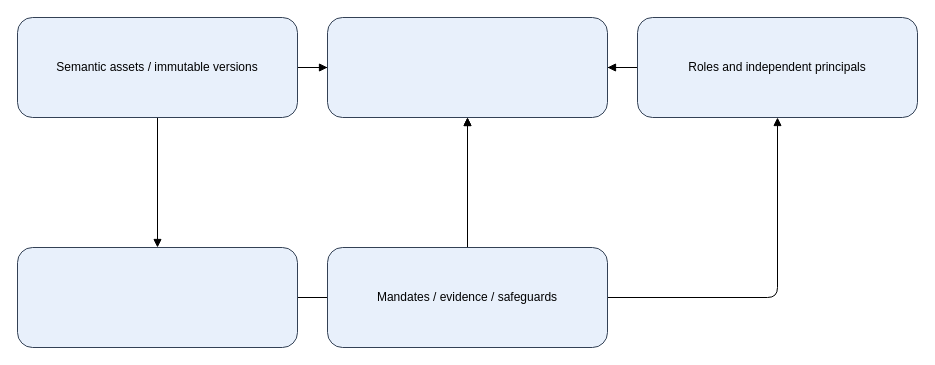
This 935x365 diagram has some shape labels left out. Here are the shapes that lost their labels. From the top down, the box of each, then its label:
(326, 16, 608, 118): Governance area / scoped permissions
(16, 246, 298, 348): Publication committee
